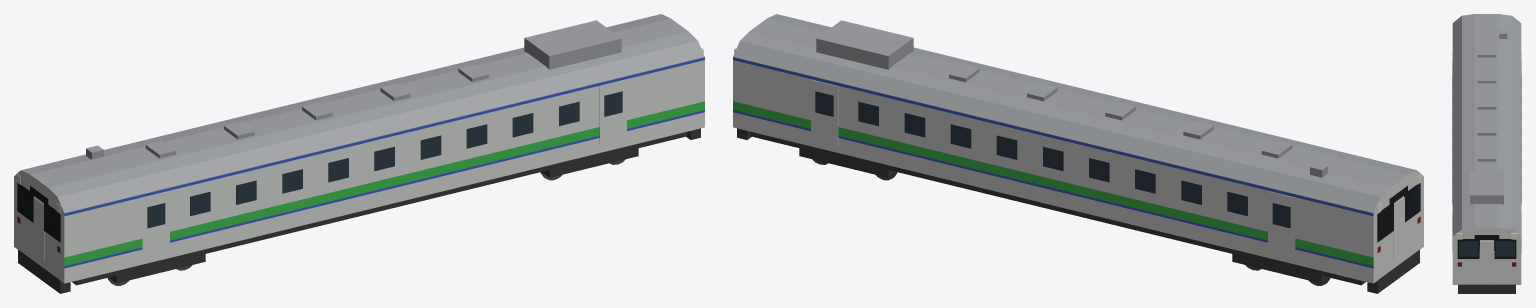
The model's file is kiha40.glb.
3 views of the same model, side by side, from view 1: azimuth 30°, elevation 25°; view 2: azimuth 150°, elevation 25°; view 3: azimuth 270°, elevation 25° (orthographic). The views are drawn at different scales.
Parts seen in each view (by area): view 1: Kiha40_Body, Kiha40_Underframe, Kiha40_WaterTankCover, Kiha40_Door_RR, Kiha40_Door_FR, Kiha40_Bogie_1, Kiha40_Bogie_-1, Kiha40_Skirt_-1, Kiha40_Gangway_-1, Kiha40_CabSurround_-1_-1, Kiha40_CabSurround_-1_1, Kiha40_Window_06R (+2 smaller); view 2: Kiha40_Body, Kiha40_Underframe, Kiha40_WaterTankCover, Kiha40_Door_RL, Kiha40_Door_FL, Kiha40_Bogie_1, Kiha40_Bogie_-1, Kiha40_Skirt_-1, Kiha40_Gangway_-1, Kiha40_CabSurround_-1_1, Kiha40_CabSurround_-1_-1, Kiha40_Window_06L (+2 smaller); view 3: Kiha40_Body, Kiha40_WaterTankCover, Kiha40_Gangway_1, Kiha40_Skirt_1, Kiha40_CabGlass_1_-1, Kiha40_CabGlass_1_1, Kiha40_CabSurround_1_-1, Kiha40_CabSurround_1_1, Kiha40_Vent_2, Kiha40_Vent_3, Kiha40_Vent_4, Kiha40_Vent_0 (+3 smaller).
Part boxes in pixels (left/top/right/bottom): Kiha40_Body: left=14, top=14, right=704, bottom=283; Kiha40_Underframe: left=72, top=132, right=686, bottom=285; Kiha40_WaterTankCover: left=524, top=20, right=621, bottom=69; Kiha40_Door_RR: left=142, top=191, right=169, bottom=256; Kiha40_Door_FR: left=599, top=80, right=626, bottom=144; Kiha40_Bogie_1: left=542, top=148, right=638, bottom=177; Kiha40_Bogie_-1: left=109, top=254, right=205, bottom=283; Kiha40_Skirt_-1: left=18, top=249, right=70, bottom=293; Kiha40_Gangway_-1: left=33, top=197, right=44, bottom=261; Kiha40_CabSurround_-1_-1: left=44, top=202, right=60, bottom=242; Kiha40_CabSurround_-1_1: left=17, top=183, right=33, bottom=222; Kiha40_Window_06R: left=466, top=124, right=487, bottom=148; Kiha40_Body: left=733, top=14, right=1423, bottom=283; Kiha40_Underframe: left=751, top=132, right=1365, bottom=285; Kiha40_WaterTankCover: left=816, top=20, right=913, bottom=69; Kiha40_Door_RL: left=1268, top=191, right=1295, bottom=256; Kiha40_Door_FL: left=811, top=80, right=838, bottom=144; Kiha40_Bogie_1: left=799, top=148, right=895, bottom=177; Kiha40_Bogie_-1: left=1232, top=254, right=1328, bottom=283; Kiha40_Skirt_-1: left=1367, top=249, right=1419, bottom=293; Kiha40_Gangway_-1: left=1393, top=197, right=1404, bottom=261; Kiha40_CabSurround_-1_1: left=1377, top=202, right=1393, bottom=242; Kiha40_CabSurround_-1_-1: left=1404, top=183, right=1420, bottom=222; Kiha40_Window_06L: left=950, top=124, right=971, bottom=148; Kiha40_Body: left=1452, top=14, right=1521, bottom=284; Kiha40_WaterTankCover: left=1470, top=171, right=1503, bottom=204; Kiha40_Gangway_1: left=1479, top=241, right=1494, bottom=279; Kiha40_Skirt_1: left=1458, top=284, right=1515, bottom=293; Kiha40_CabGlass_1_-1: left=1459, top=241, right=1478, bottom=256; Kiha40_CabGlass_1_1: left=1495, top=241, right=1514, bottom=256; Kiha40_CabSurround_1_-1: left=1457, top=239, right=1479, bottom=258; Kiha40_CabSurround_1_1: left=1494, top=239, right=1516, bottom=258; Kiha40_Vent_2: left=1477, top=101, right=1496, bottom=109; Kiha40_Vent_3: left=1477, top=127, right=1496, bottom=135; Kiha40_Vent_4: left=1477, top=153, right=1496, bottom=161; Kiha40_Vent_0: left=1477, top=49, right=1496, bottom=57.
Bounding box in the file's own units: 21.38 × 4.05 × 2.94.
